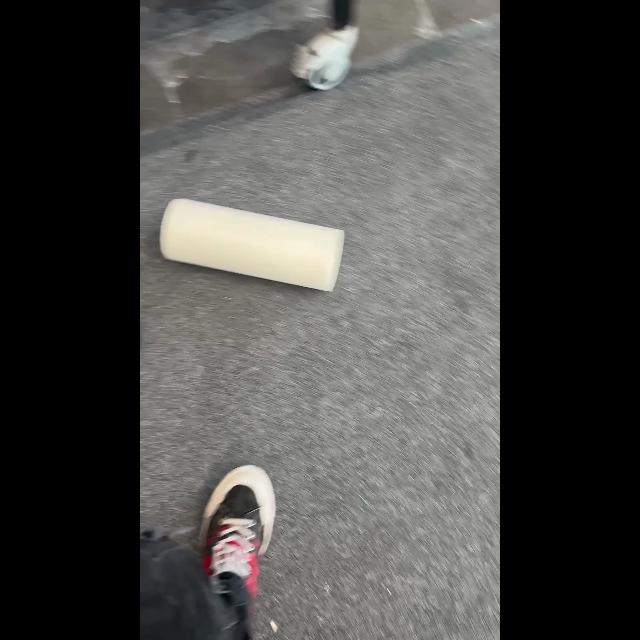CORAL: (158, 196, 346, 292)
